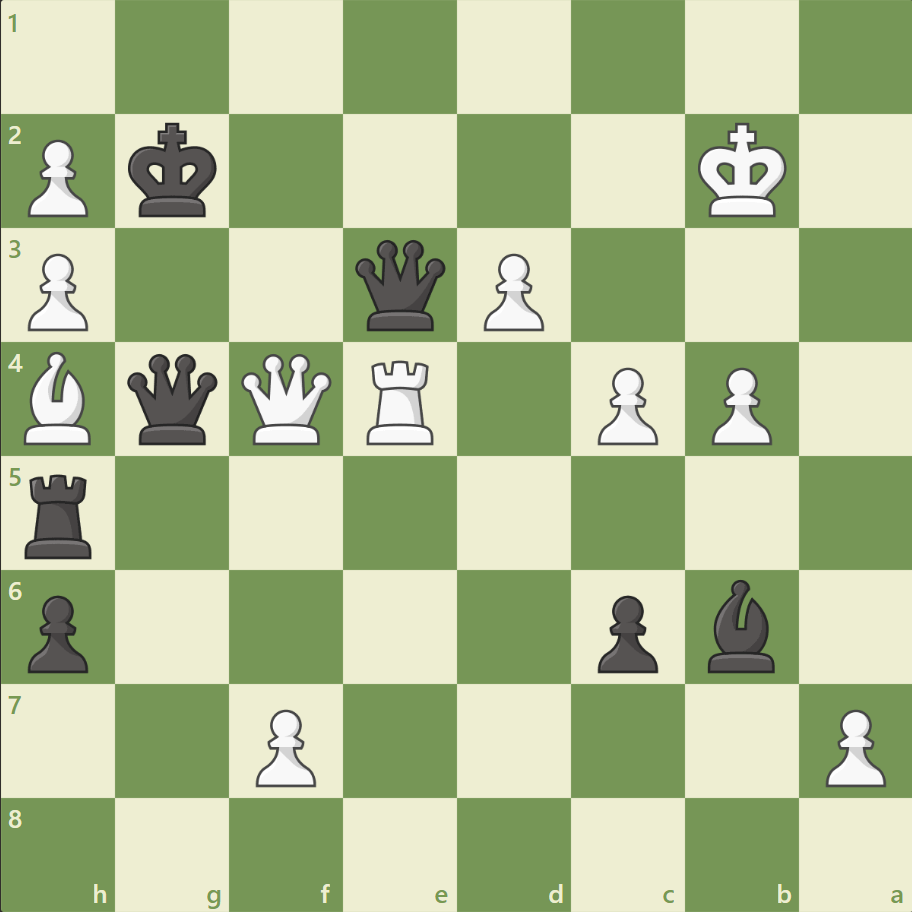B: (17, 347, 101, 449)
K: (692, 117, 792, 225)
P: (247, 700, 322, 791), (701, 359, 776, 450), (474, 246, 549, 337), (20, 246, 95, 337), (20, 132, 95, 223), (815, 700, 889, 791), (588, 359, 662, 450)
Q: (237, 349, 336, 449)
R: (360, 352, 442, 449)
b: (698, 574, 782, 676)
k: (124, 117, 224, 225)
p: (20, 586, 95, 677), (588, 586, 662, 677)
q: (124, 349, 223, 449), (351, 236, 450, 335)
r: (19, 466, 102, 563)
